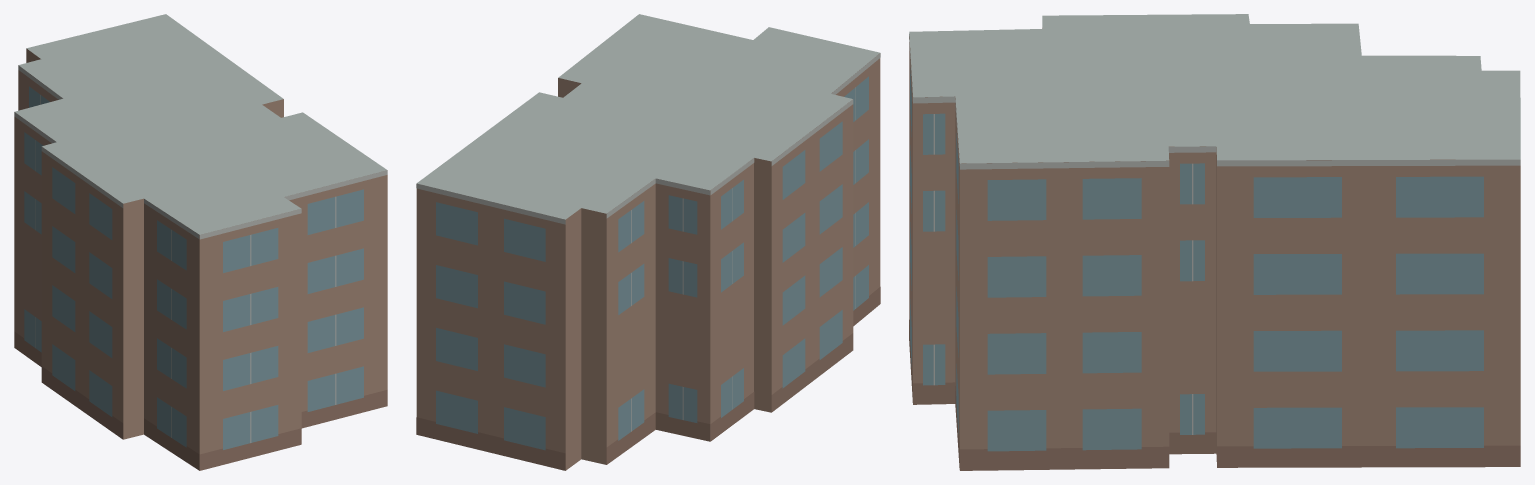
The model's file is survey-upis-32755484.glb.
3 views of the same model, side by side, from view 1: azimuth 30°, elevation 25°; view 2: azimuth 150°, elevation 25°; view 3: azimuth 270°, elevation 25° (orthographic). The views are drawn at different scales.
Parts seen in each view (by area): view 1: survey-upis-32755484.tmp; view 2: survey-upis-32755484.tmp; view 3: survey-upis-32755484.tmp.
Boxes of the visible parts, left/top/right/bottom form: survey-upis-32755484.tmp: left=14, top=14, right=387, bottom=470; survey-upis-32755484.tmp: left=416, top=14, right=880, bottom=470; survey-upis-32755484.tmp: left=909, top=14, right=1520, bottom=470.
Size of the model in its own units: 12.84 by 12.3 by 22.19.
